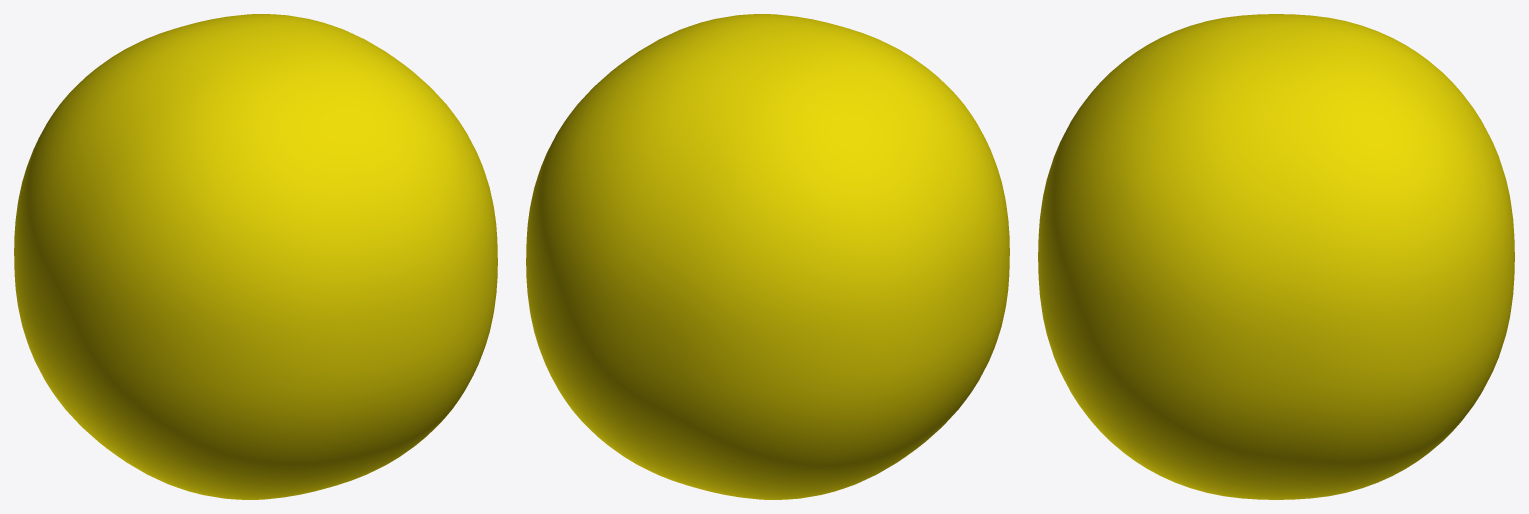
File: dot.fbx
3 views of the same model, side by side, from view 1: azimuth 30°, elevation 25°; view 2: azimuth 150°, elevation 25°; view 3: azimuth 270°, elevation 25° (orthographic).
Parts seen in each view (by area): view 1: Cube; view 2: Cube; view 3: Cube.
Part boxes in pixels (x1=…): Cube: x1=14, y1=14, x2=497, y2=499; Cube: x1=526, y1=14, x2=1009, y2=499; Cube: x1=1038, y1=14, x2=1514, y2=499.
Size of the model in its own units: 200 by 200 by 200.
